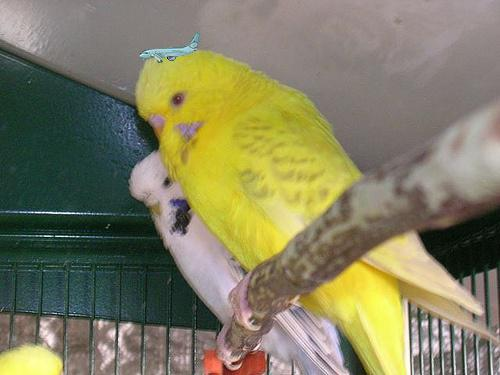tampered: (140, 33, 200, 63)
